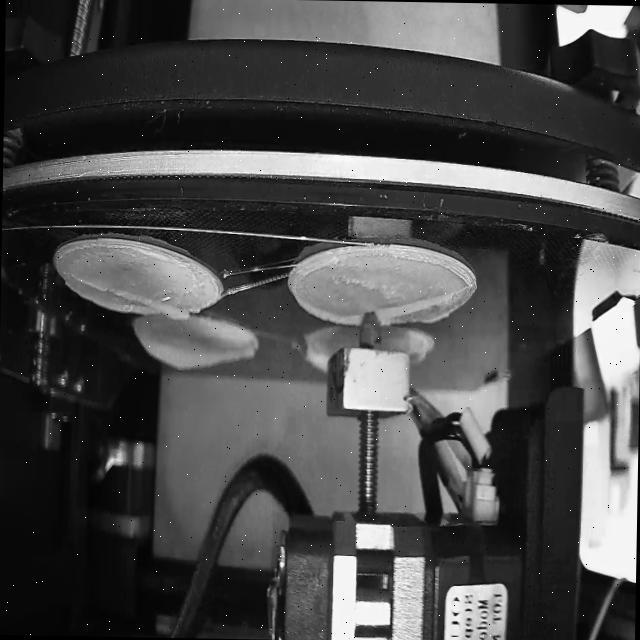over_extrusion: (136, 324, 258, 373), (74, 276, 188, 319), (377, 288, 458, 323), (294, 297, 361, 329), (300, 256, 338, 284), (300, 341, 328, 374)
